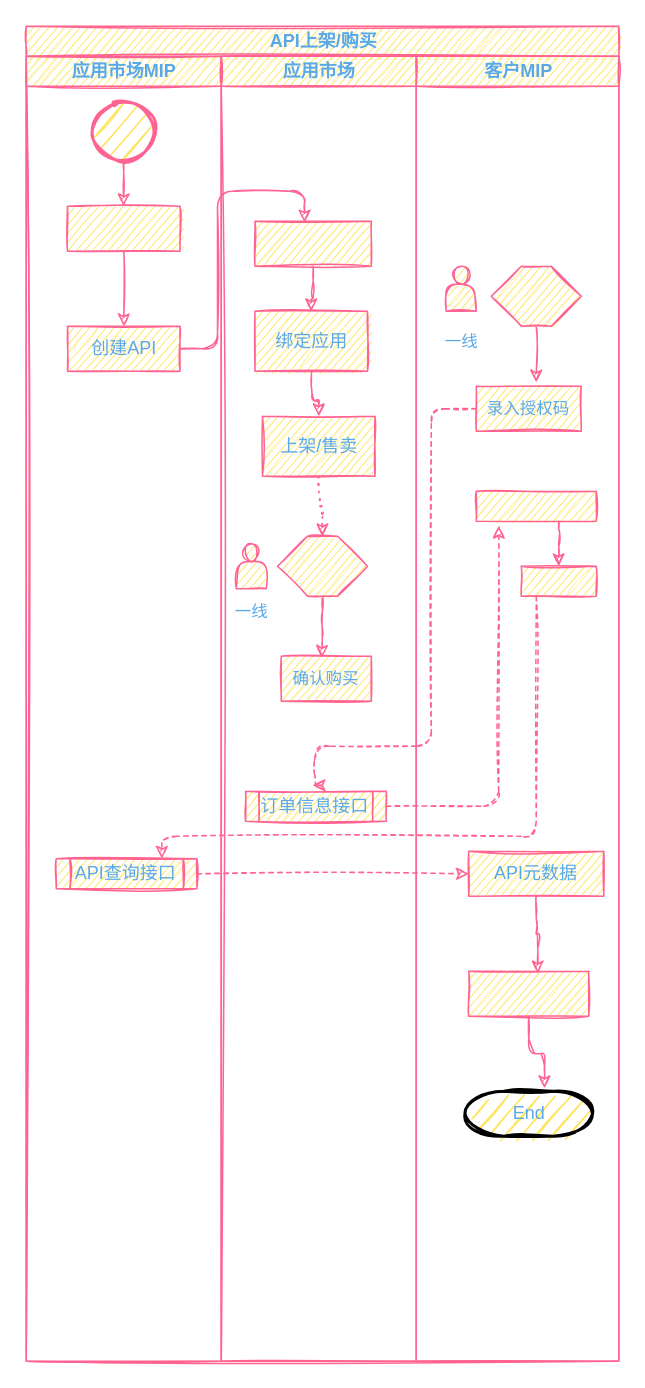
This 645x1388 diagram has some shape labels left out. Here are the shapes that lost their labels. From the top down, the centre of each, then its label:
[123,228]: 创建API分组
[312,243]: 获取API/分组
[535,295]: 准备安装
[535,505]: 选择订单信息
[322,565]: 下单
[558,580]: API分组
[528,993]: API导入
